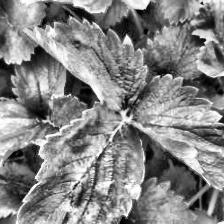Powdery Mildew Leaf: (14, 101, 146, 224), (24, 16, 149, 116), (101, 0, 172, 11)
